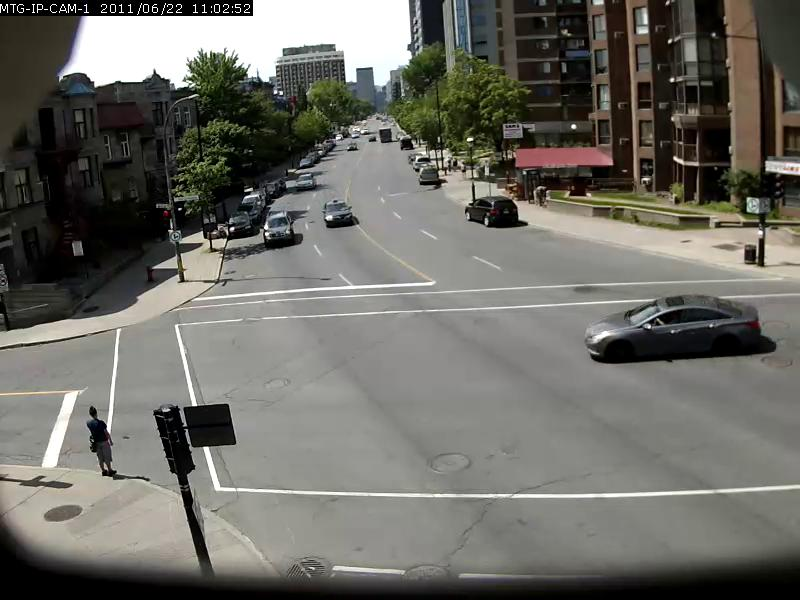Car: (261, 212, 295, 244), (323, 198, 354, 228), (228, 212, 251, 235), (294, 172, 316, 192), (345, 142, 358, 152)
